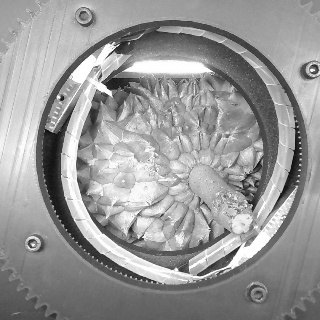base: (184, 159, 222, 197)
end: (231, 213, 254, 235)
